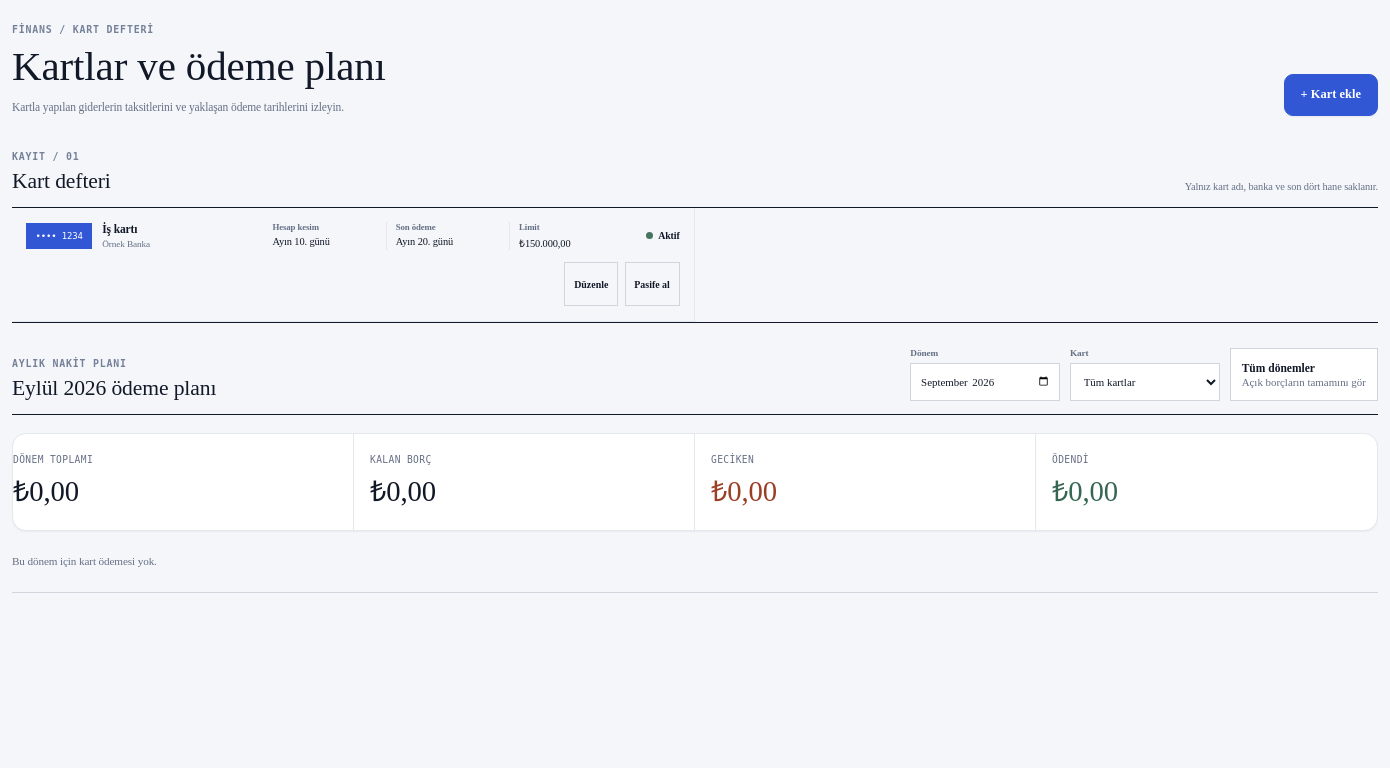
Test case: CardPlanWorkspace › requests all periods without an empty month query parameter
Check: the text "Bu dönem için kart ödemesi yok." is shown, box [12,531,1378,593]
Click the button "Tüm dönemler Açık borçların tamamını gör".
click(1304, 375)  # box [1230,348,1378,401]
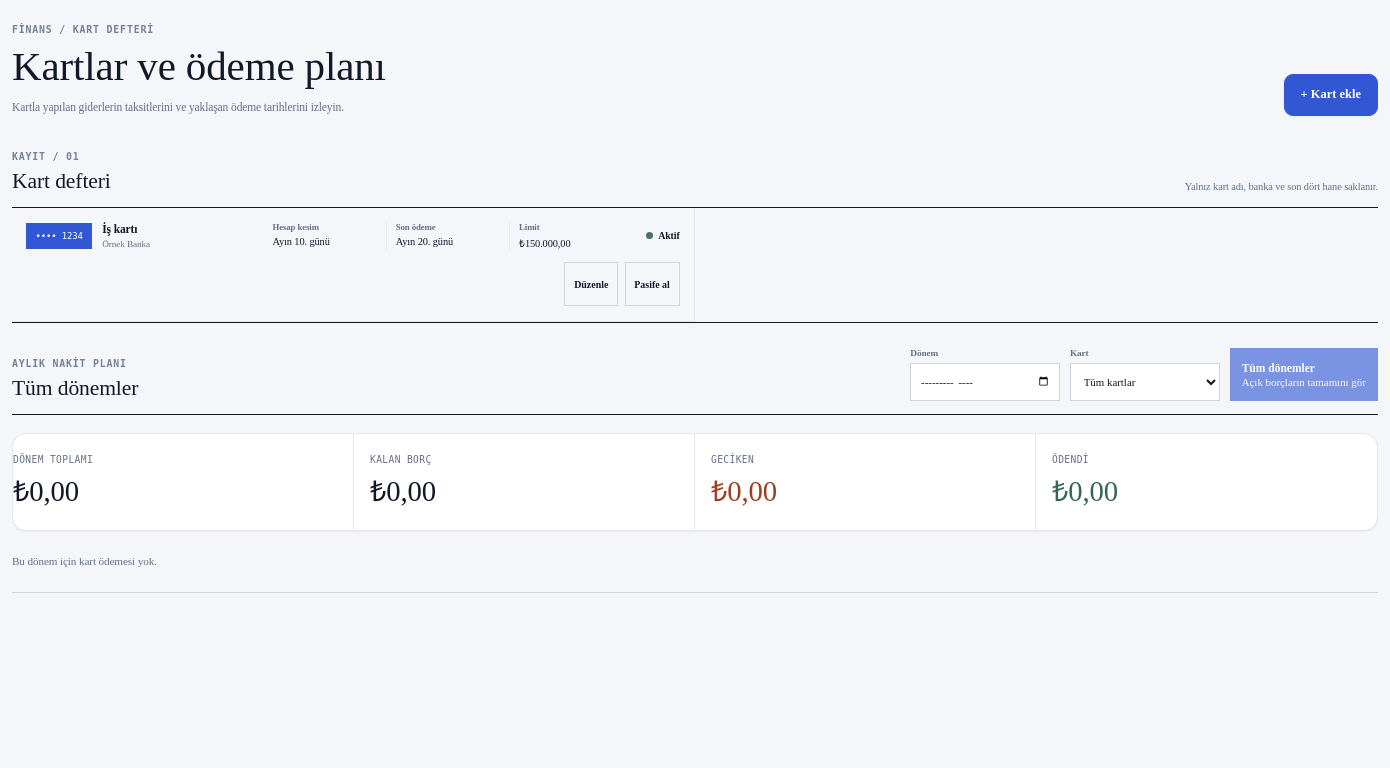
Check: the heading "Tüm dönemler" is shown, box [12,376,138,401]
